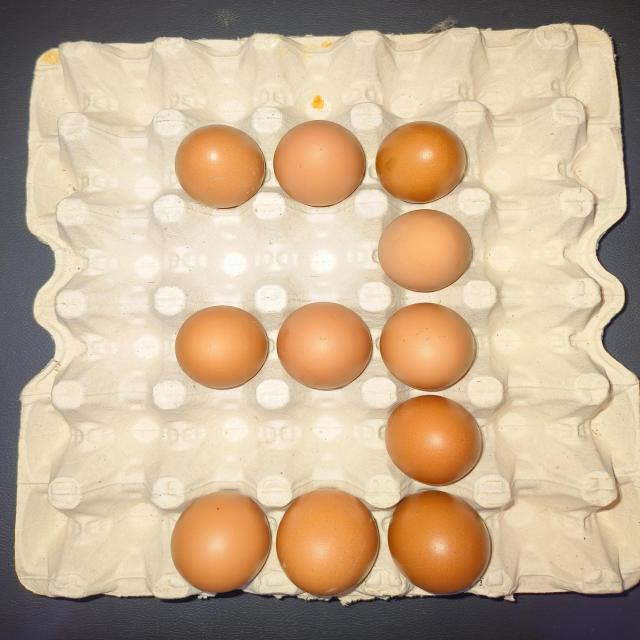Eggs: (388, 491, 494, 599), (280, 482, 373, 598), (175, 488, 265, 594), (381, 298, 478, 394), (379, 205, 473, 301), (280, 304, 375, 398), (381, 100, 468, 202), (391, 391, 481, 489), (175, 302, 269, 388), (278, 116, 362, 212), (186, 120, 266, 214)
